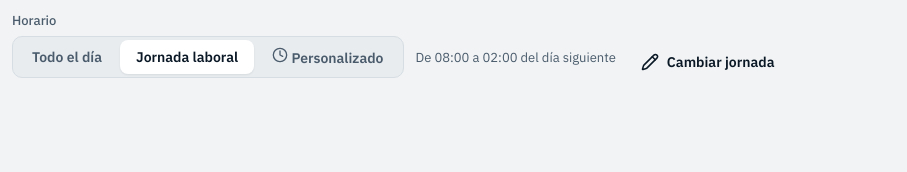
Test case: HourFilterBar › 9. cancelar no guarda y devuelve el foco
The image size is (907, 172).
Click the button "Cambiar jornada".
click(708, 62)  # box [628,46,788,78]
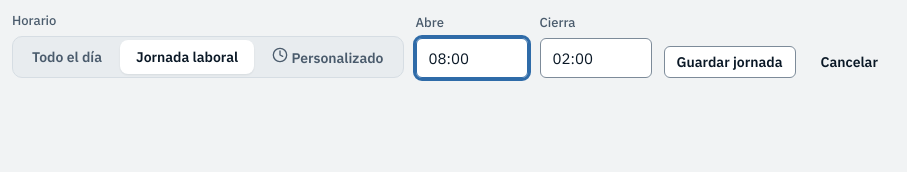
Replace the text in the field labelled "Abre" with "1000" at (472, 58), box [416,38,528,78]
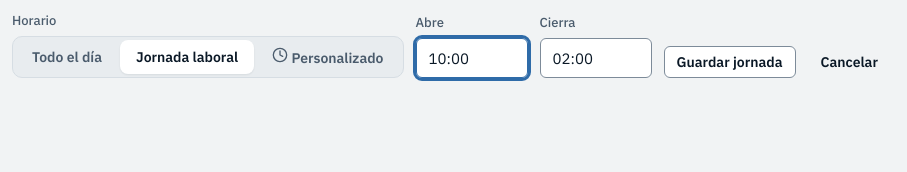
Click the button "Cancelar".
click(849, 62)  # box [808,46,891,78]
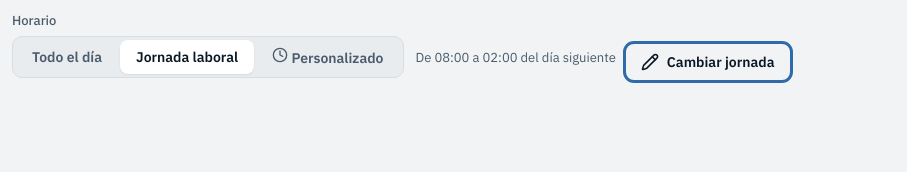
Result: the text "De 08:00 a 02:00 del día siguiente" is shown at [416,49,616,66]
